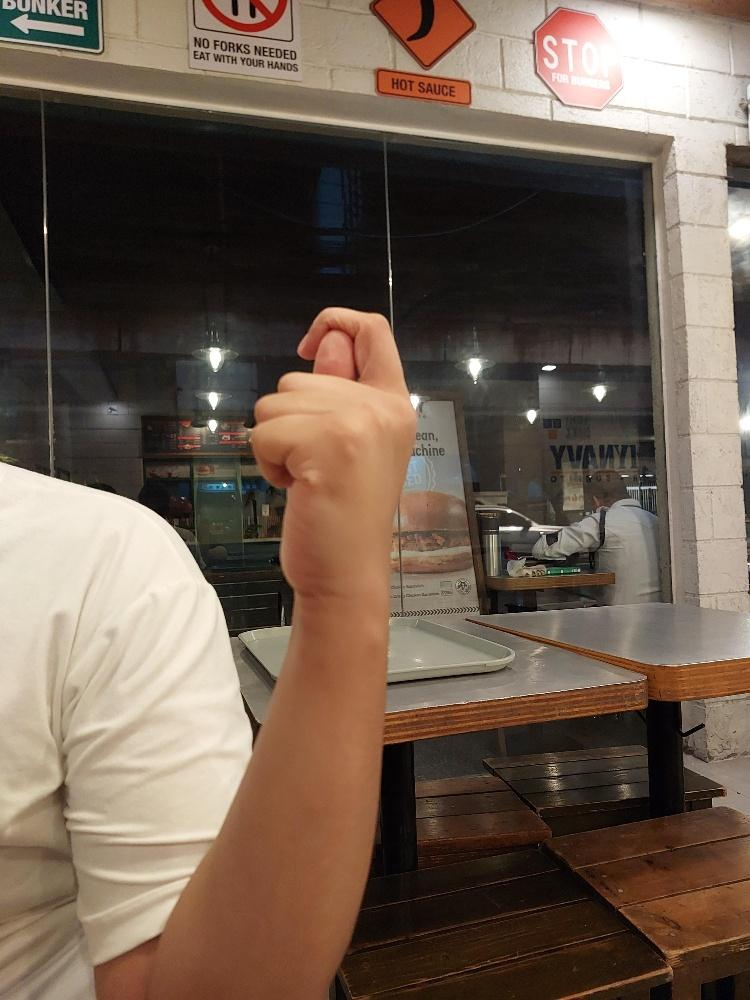t: (249, 304, 420, 600)
